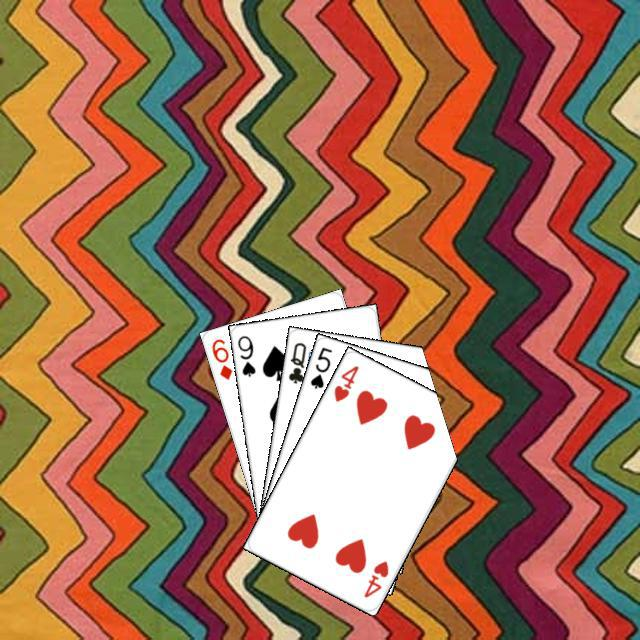4h: (329, 361, 361, 403), (359, 556, 390, 599)
5s: (305, 342, 334, 391)
6d: (207, 334, 234, 382)
9s: (232, 330, 257, 378)
Qc: (284, 337, 314, 391)
